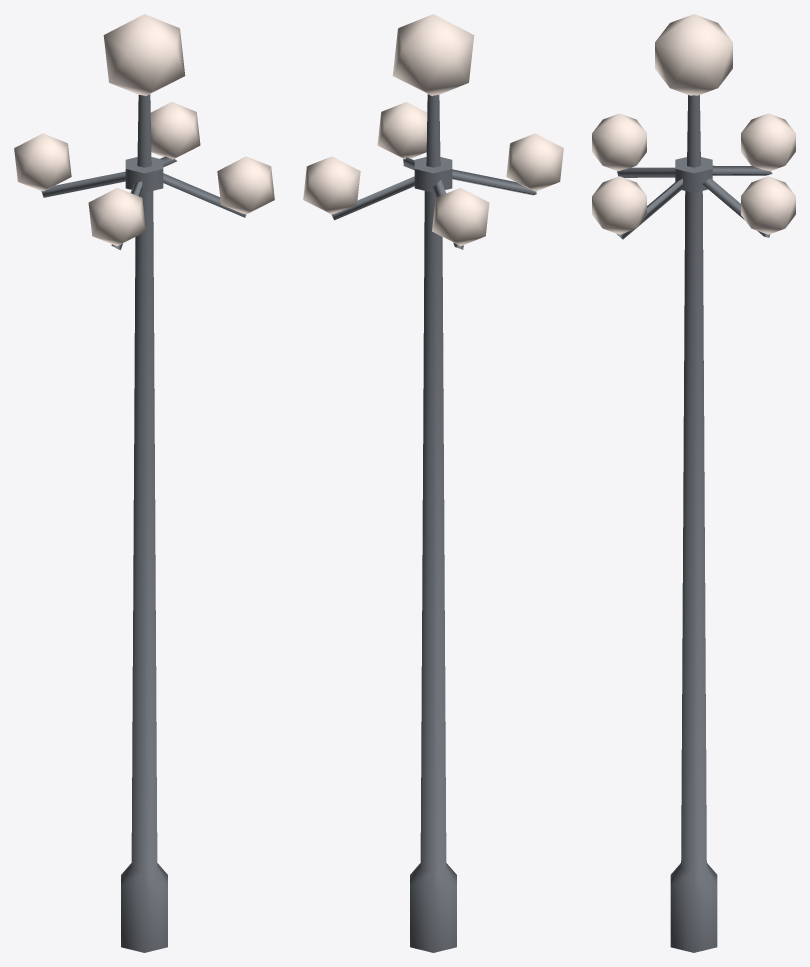
Rendered from site_light.fbx.
The picture shows the model from 3 angles, left to right: view 1: azimuth 30°, elevation 25°; view 2: azimuth 150°, elevation 25°; view 3: azimuth 270°, elevation 25°; orthographic projection.
Parts seen in each view (by area): view 1: a3009/0/site_light; view 2: a3009/0/site_light; view 3: a3009/0/site_light.
Part boxes in pixels (<box>): a3009/0/site_light: <box>14,14,274,952</box>; a3009/0/site_light: <box>303,14,563,952</box>; a3009/0/site_light: <box>592,14,795,952</box>.
Size of the model in its own units: 1.53 by 7.59 by 1.51.
